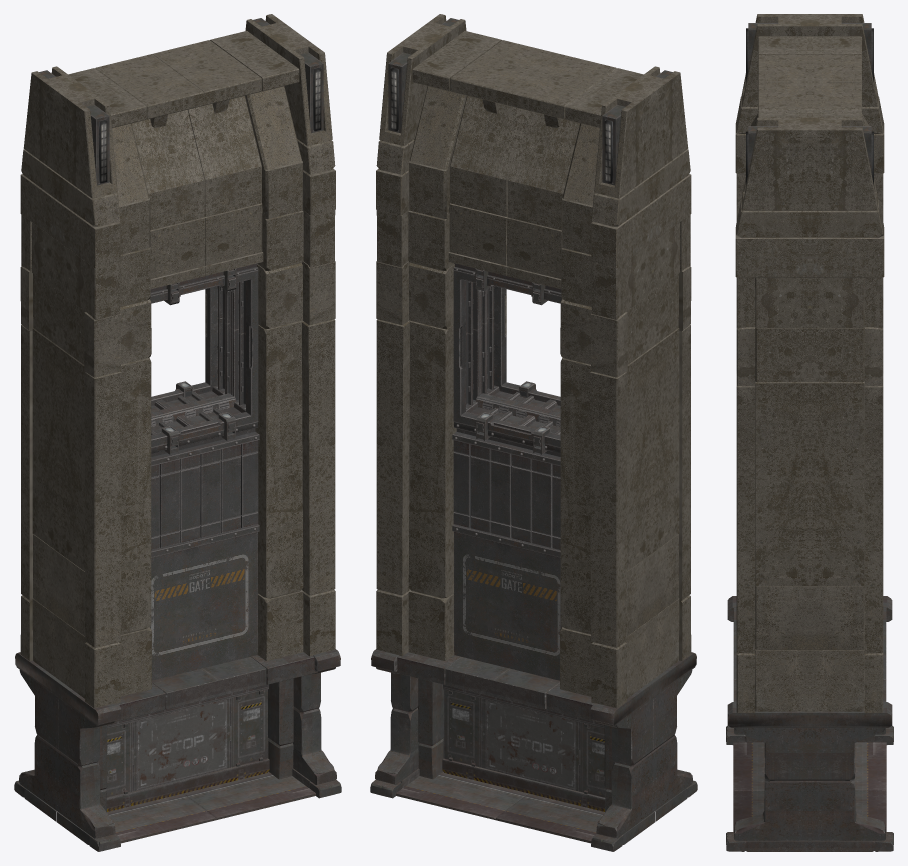
File: BigWall_00.fbx
The picture shows the model from 3 angles, left to right: view 1: azimuth 30°, elevation 25°; view 2: azimuth 150°, elevation 25°; view 3: azimuth 270°, elevation 25°; orthographic projection.
Visible parts, largest first — view 1: 004_B_SM.001; view 2: 004_B_SM.001; view 3: 004_B_SM.001.
Boxes of the visible parts, x1,y1,x2,y2 form: 004_B_SM.001: [14, 14, 341, 851]; 004_B_SM.001: [370, 14, 697, 851]; 004_B_SM.001: [726, 14, 893, 851].
Size of the model in its own units: 29.6 by 84.72 by 17.86.
